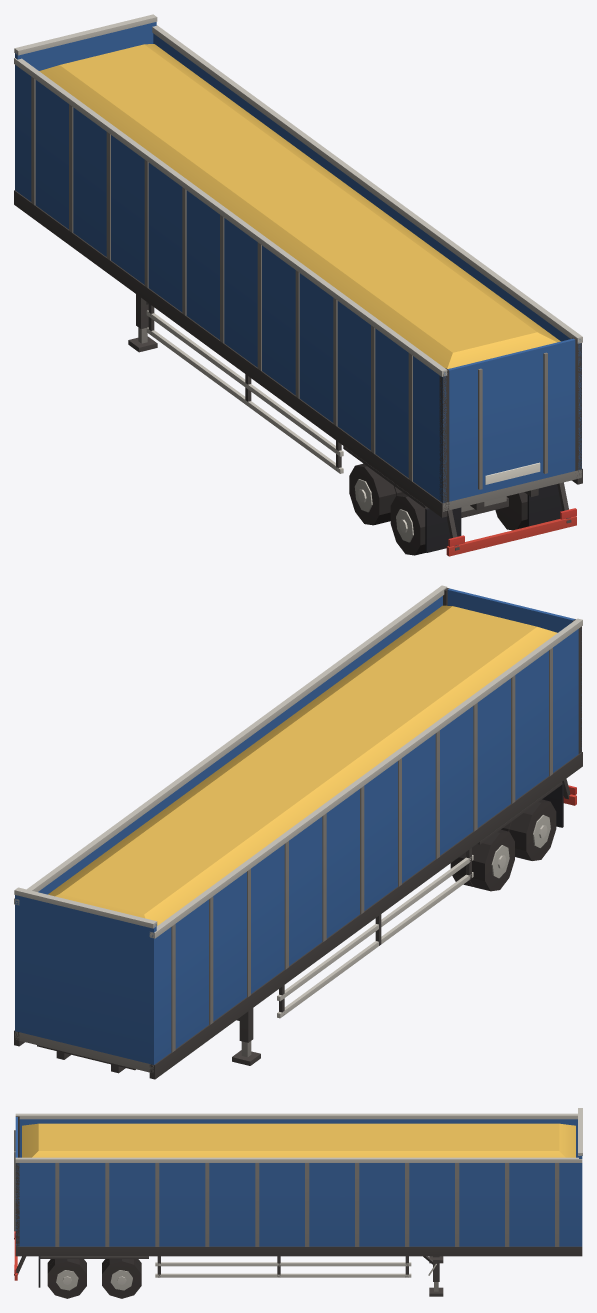
File: semitrailer_large.glb
3 renders of one model, top to bottom at view 1: azimuth 30°, elevation 25°; view 2: azimuth 150°, elevation 25°; view 3: azimuth 270°, elevation 25°, orthographic. The views are drawn at different scales.
Parts seen in each view (by area): view 1: semitrailer_large, grain_fill, tailgate, spin_rear_1_L, spin_rear_2_L, spin_rear_2_R, landing_legs; view 2: semitrailer_large, grain_fill, spin_rear_1_L, spin_rear_2_L, tailgate, landing_legs; view 3: semitrailer_large, grain_fill, spin_rear_2_R, spin_rear_1_R, landing_legs, tailgate.
Part boxes in pixels (left/top/right/bottom): semitrailer_large: left=14, top=14, right=582, bottom=556; grain_fill: left=39, top=44, right=560, bottom=368; tailgate: left=448, top=338, right=575, bottom=501; spin_rear_1_L: left=349, top=463, right=404, bottom=525; spin_rear_2_L: left=390, top=494, right=425, bottom=555; spin_rear_2_R: left=495, top=492, right=527, bottom=530; landing_legs: left=128, top=294, right=157, bottom=352; semitrailer_large: left=14, top=585, right=582, bottom=1079; grain_fill: left=48, top=605, right=557, bottom=925; spin_rear_1_L: left=450, top=829, right=514, bottom=891; spin_rear_2_L: left=501, top=799, right=556, bottom=860; tailgate: left=447, top=588, right=574, bottom=632; landing_legs: left=232, top=1008, right=260, bottom=1065; semitrailer_large: left=14, top=1108, right=582, bottom=1287; grain_fill: left=22, top=1123, right=575, bottom=1157; spin_rear_2_R: left=47, top=1259, right=86, bottom=1298; spin_rear_1_R: left=102, top=1259, right=141, bottom=1298; landing_legs: left=423, top=1256, right=443, bottom=1296; tailgate: left=14, top=1117, right=17, bottom=1231.
Size of the model in its own units: 2.59 by 3.88 by 13.66.
2 materials, 2 textured.
